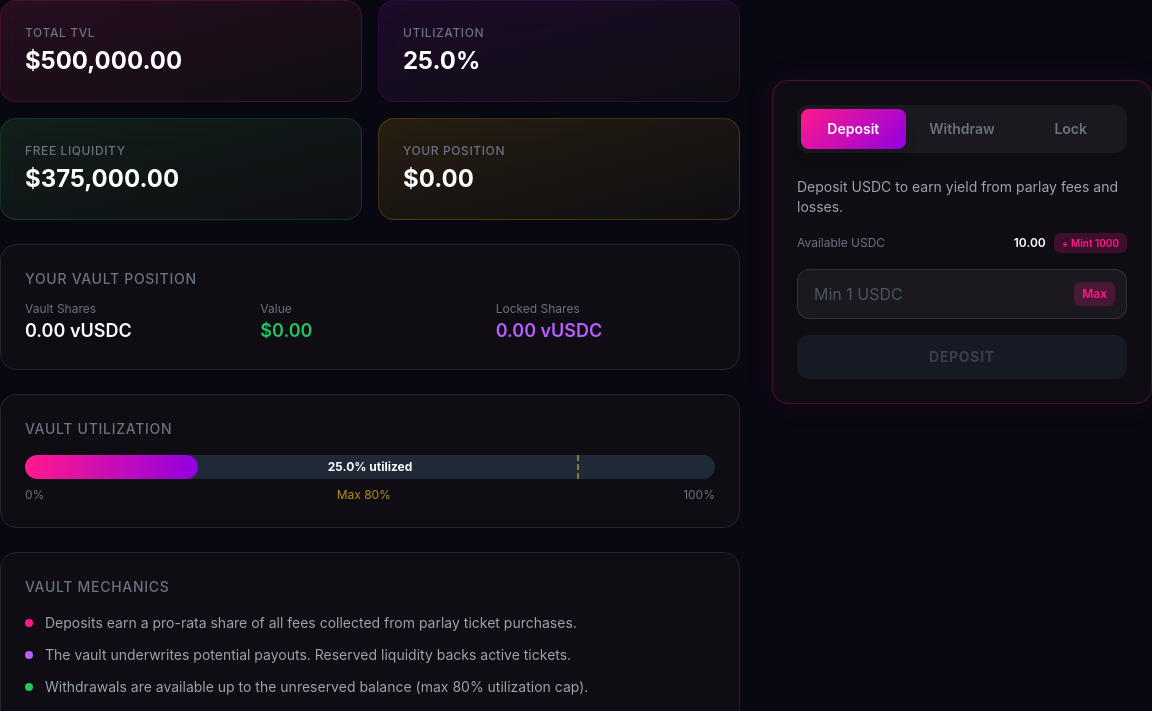
Scenario: VaultDashboard › deposit minimum guard › shows 'Exceeds your USDC balance' for amount > balance
The image size is (1152, 711).
Type "20" into the field with placeholder "Min 1 USDC".
click(962, 294); type("20")  # box [797,269,1127,319]
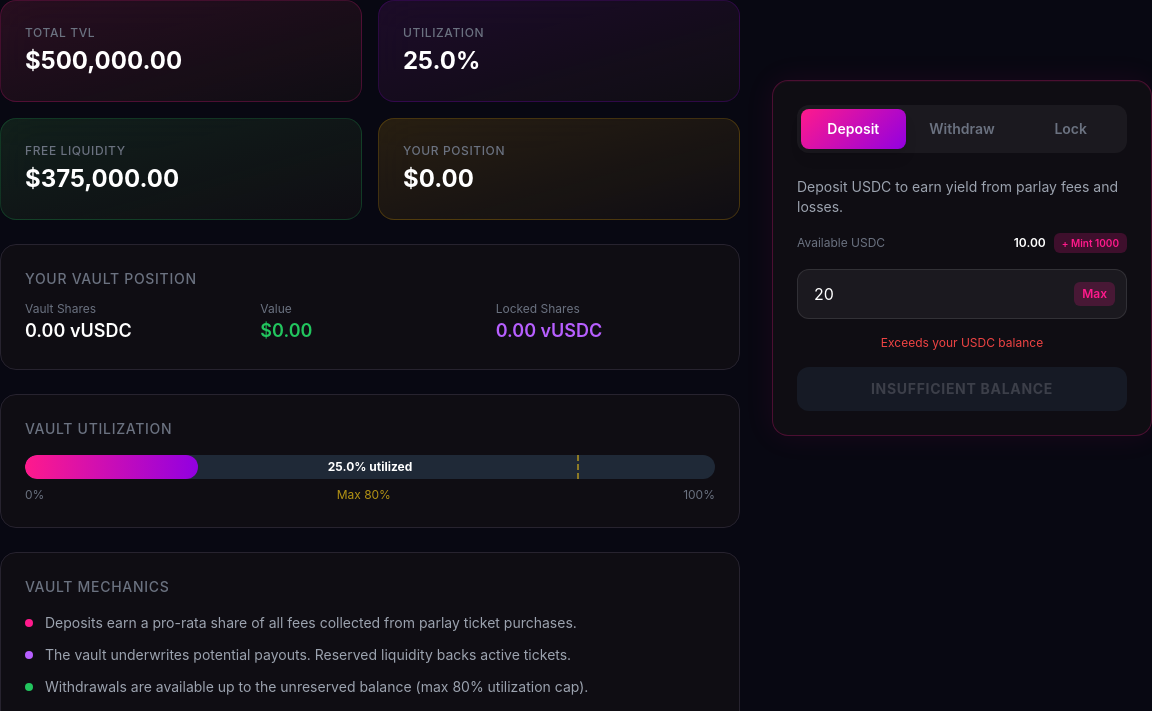
Expected: the text "Exceeds your USDC balance" is shown, [881,335,1043,350]
